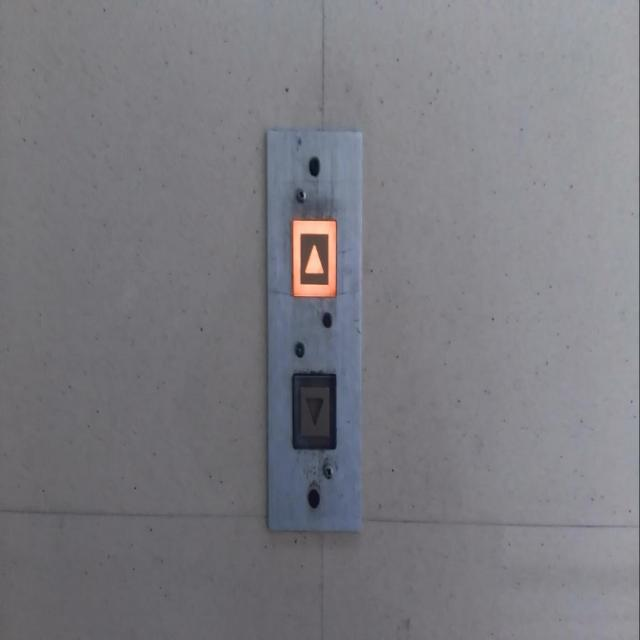down: (290, 371, 338, 452)
up: (289, 215, 338, 298)
